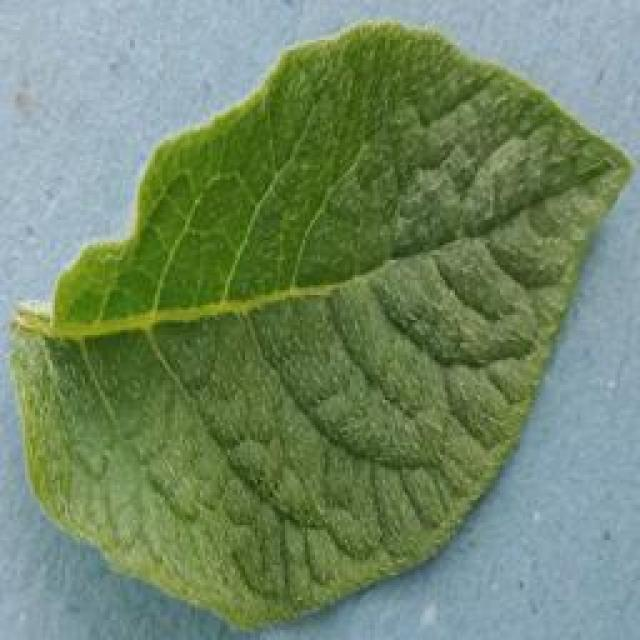Potato_Healthy: (0, 7, 628, 635)
